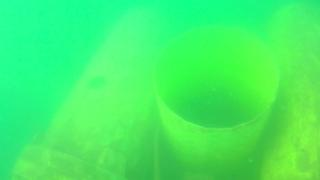pipe: (10, 12, 175, 179), (150, 23, 281, 180), (258, 3, 320, 180)
